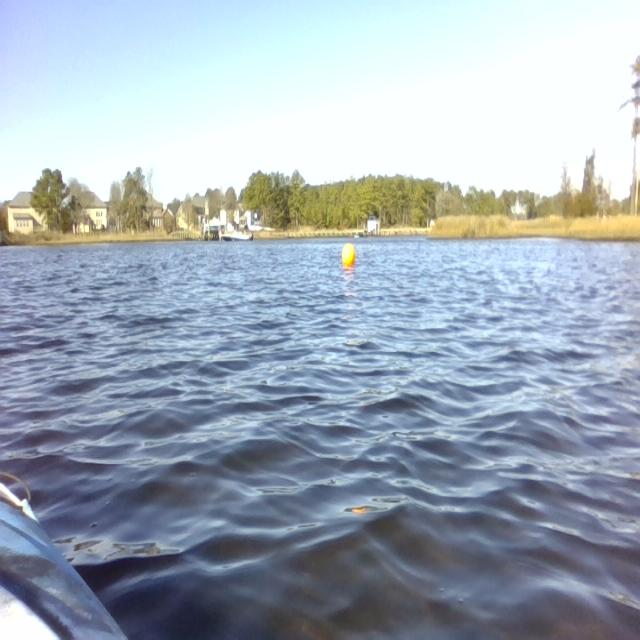Buoy: (337, 237, 358, 272)
